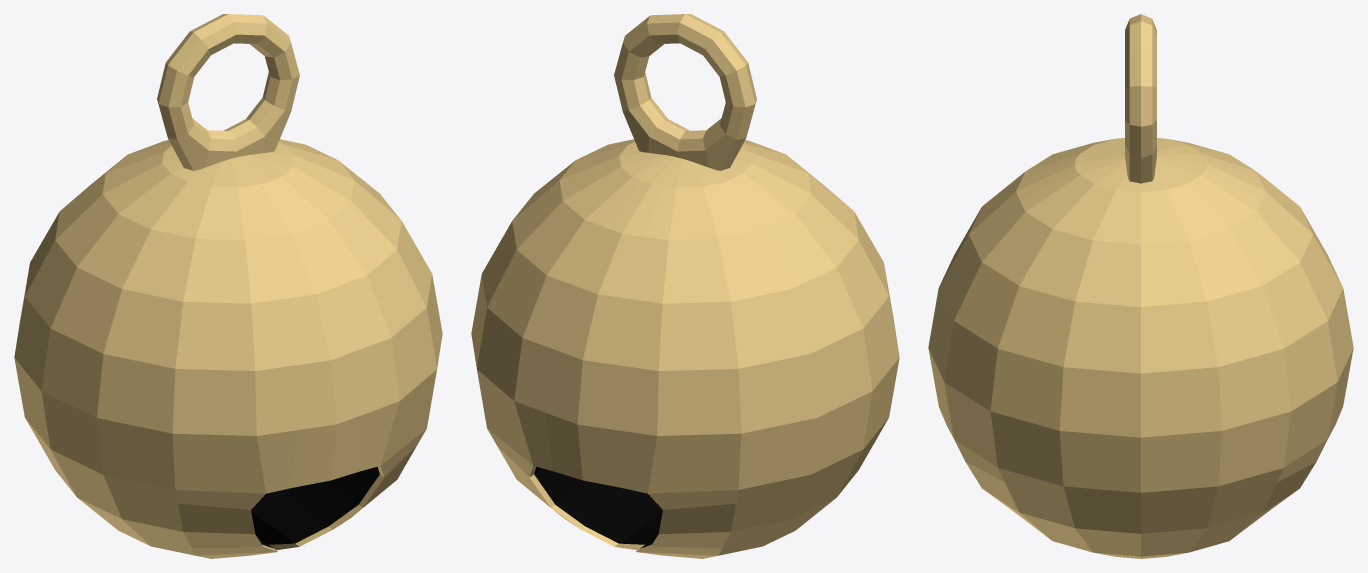
Rendered from Stuff.L_Сollar.bell.fbx.
The picture shows the model from 3 angles, left to right: view 1: azimuth 30°, elevation 25°; view 2: azimuth 150°, elevation 25°; view 3: azimuth 270°, elevation 25°; orthographic projection.
Parts seen in each view (by area): view 1: Stuff.L_Сollar.bell; view 2: Stuff.L_Сollar.bell; view 3: Stuff.L_Сollar.bell.
Boxes of the visible parts, bbox=[...] form: Stuff.L_Сollar.bell: bbox=[14, 14, 442, 558]; Stuff.L_Сollar.bell: bbox=[471, 14, 899, 558]; Stuff.L_Сollar.bell: bbox=[928, 14, 1353, 558].
Size of the model in its own units: 12.86 by 17.24 by 12.85.
